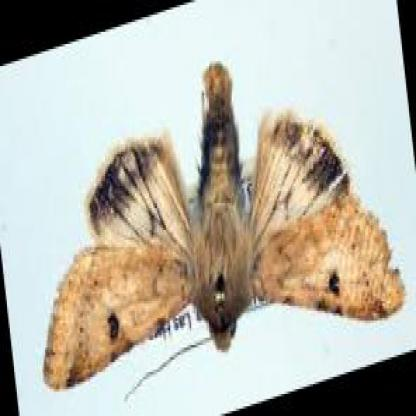helicoverpa: (44, 61, 405, 390)
